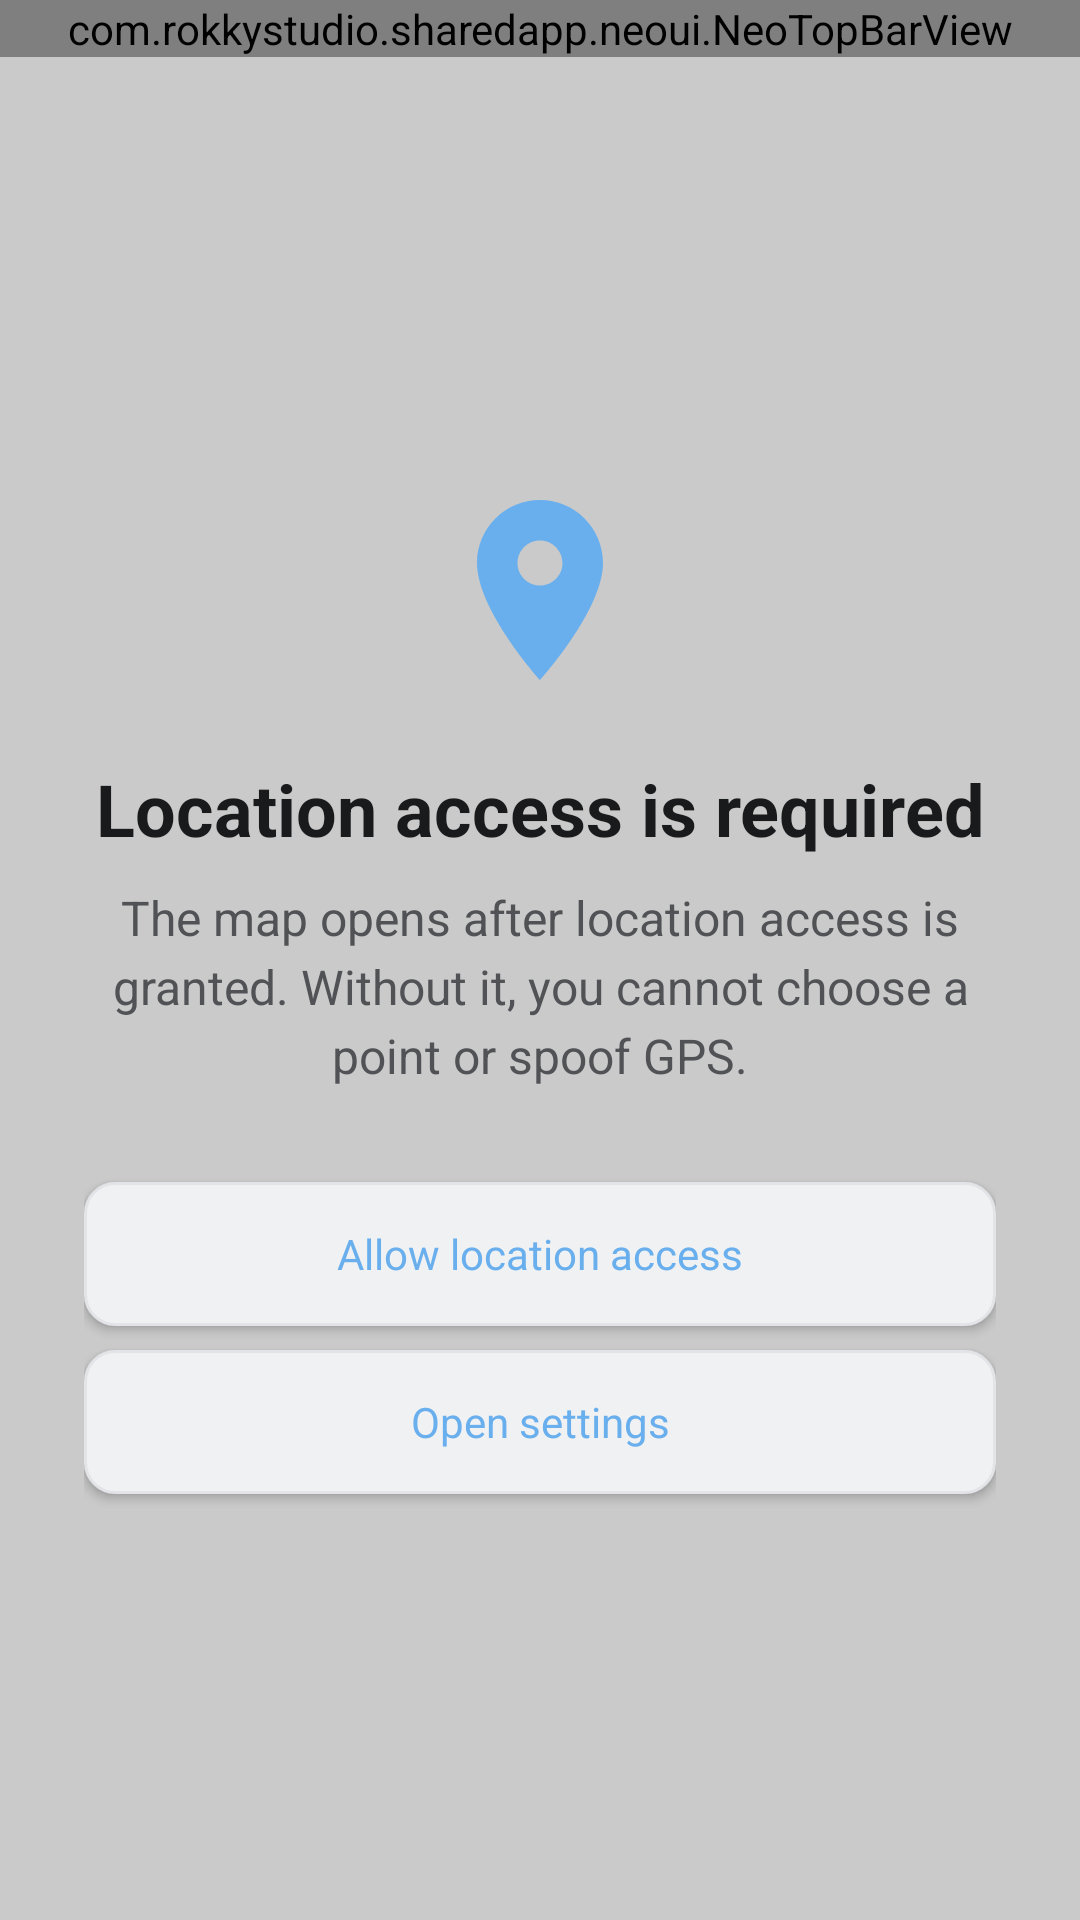

Icon click points for this 1080 x 1920 phone screenshot, format point (x, y):
Fake GPS icon: point (540, 590)
